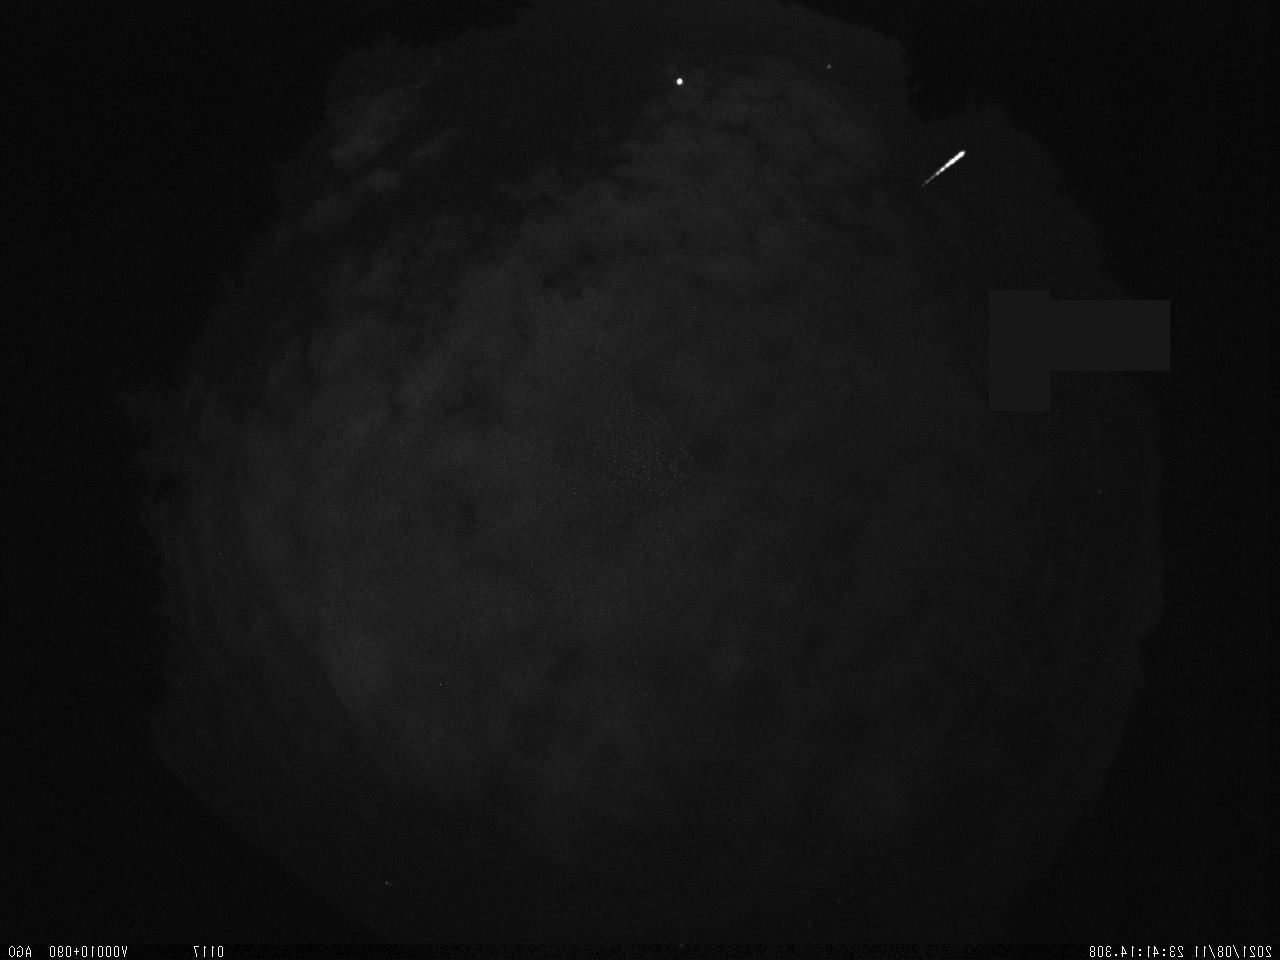meteor: (907, 134, 977, 202)
